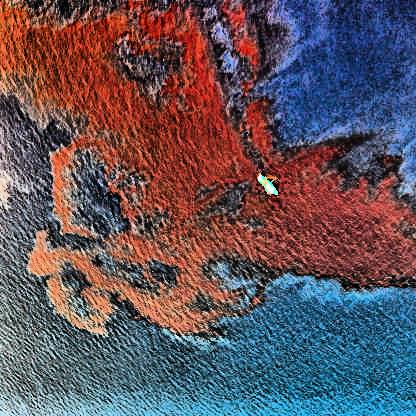truecolor: (0, 0, 416, 336)
